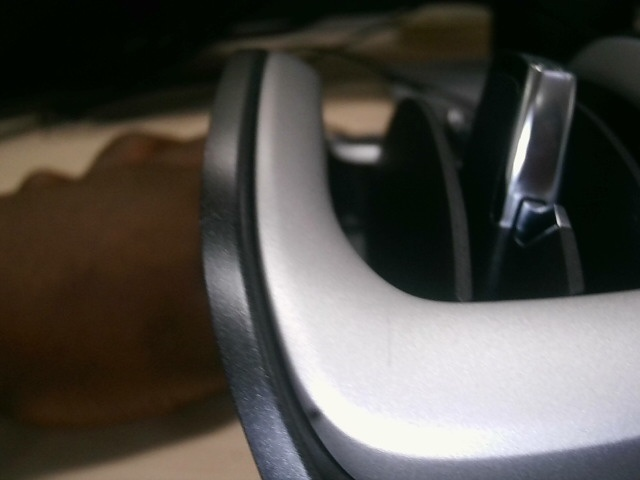NG: (378, 310, 403, 373), (195, 203, 227, 251)
